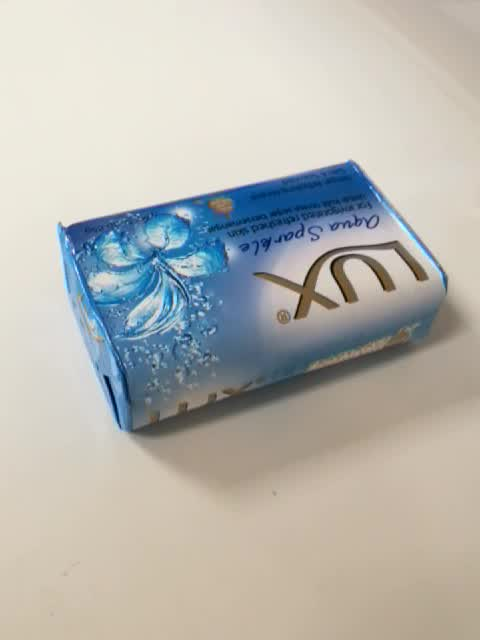soap: (56, 156, 451, 435)
